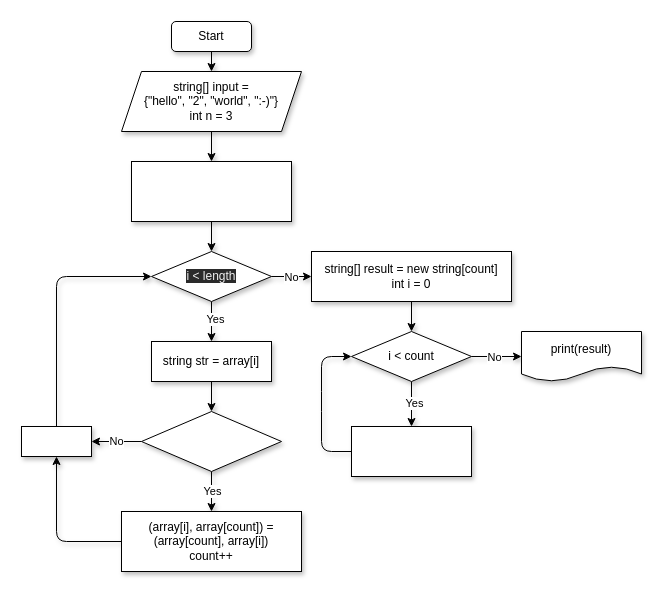
The diagram is 665 pixels wide and 596 high, and some of its shapes have lost their labels. The centre of each missing label's shape, as x and y in pixels:
i++: point (57, 443)
int length = array.Length int count =0 int i = 0: point (212, 192)
result[i] = array[i] i++: point (412, 453)
str.Length <= n: point (212, 442)
